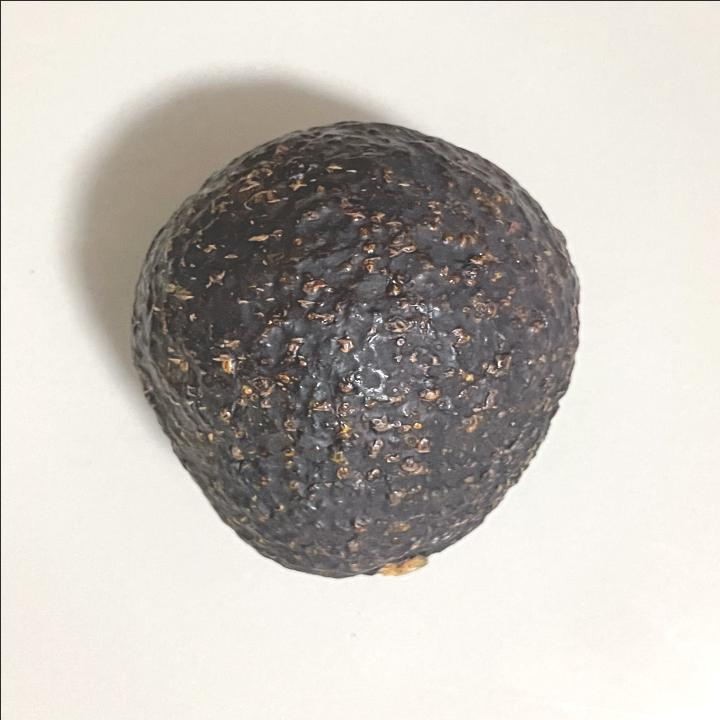Level3: (119, 110, 595, 592)
